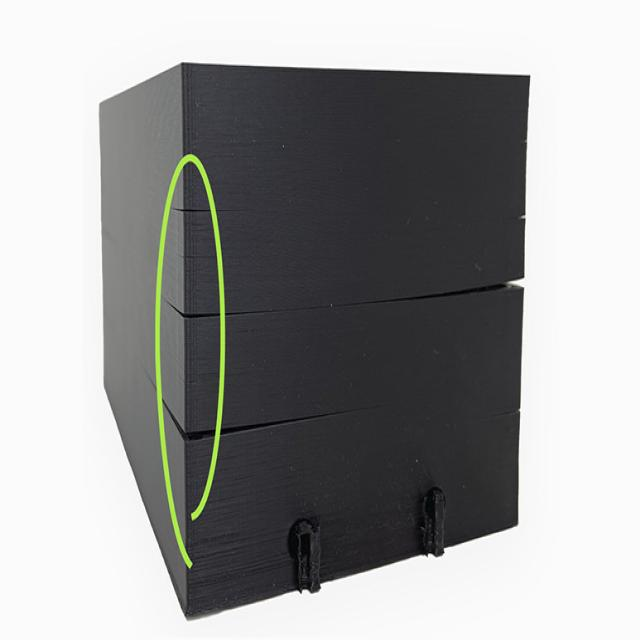Warping: (170, 196, 210, 488), (404, 252, 536, 324)
